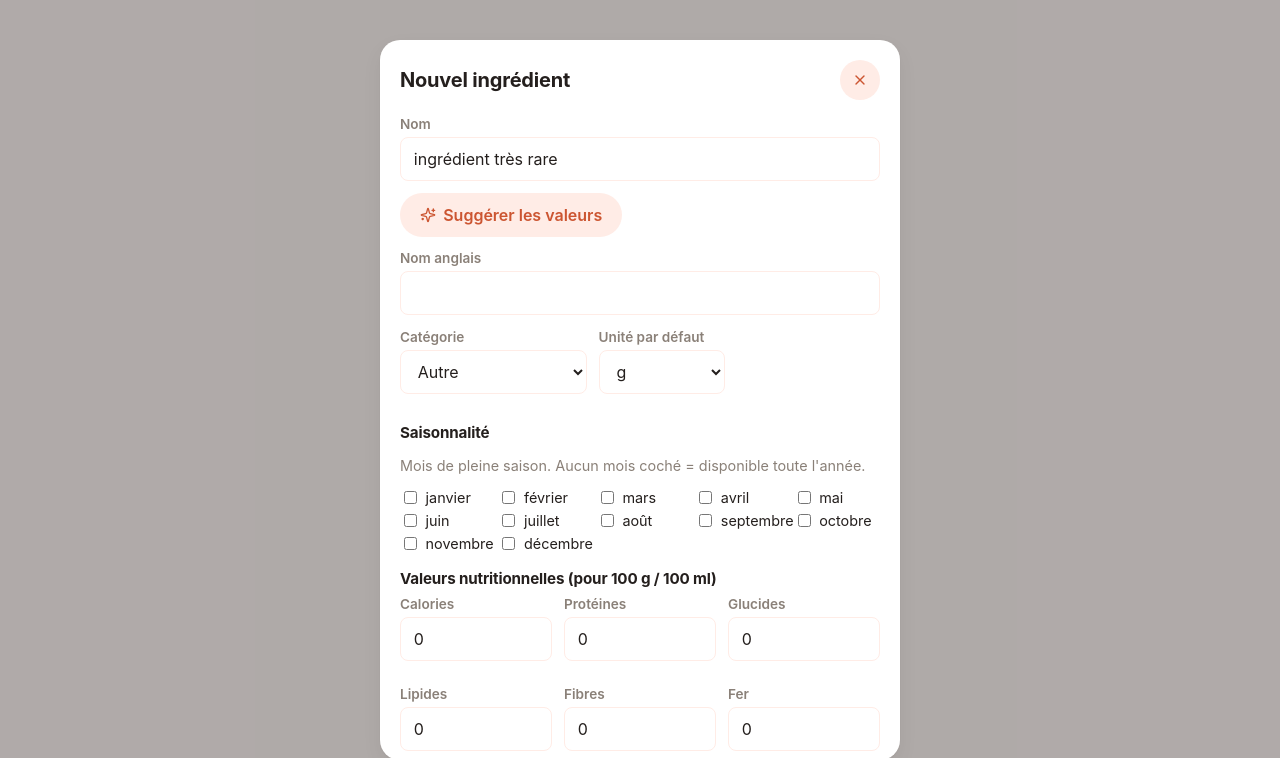
Test: IngredientEditModal › shows a message when no suggestion is found
Click the button with id "ingredient-modal-suggest": [511, 215] box x1=400 y1=193 x2=622 y2=237
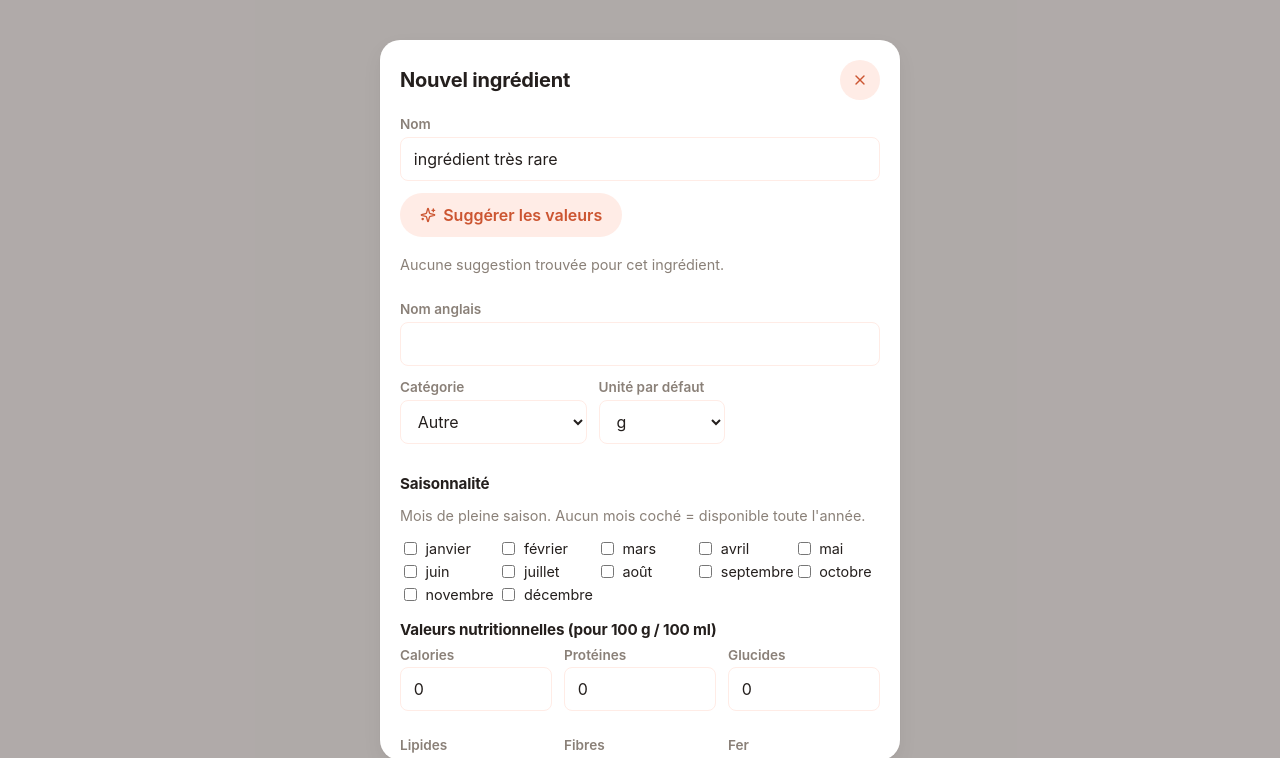
Expected: the number field with id "ingredient-modal-calories_kcal" holds "0", x1=400 y1=667 x2=552 y2=711
Expected: the text "Aucune suggestion trouvée" is shown, x1=400 y1=256 x2=724 y2=273
